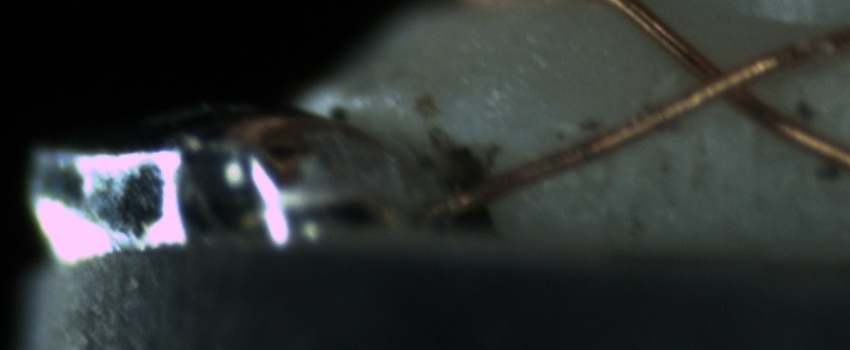CL: (677, 45, 776, 119)
